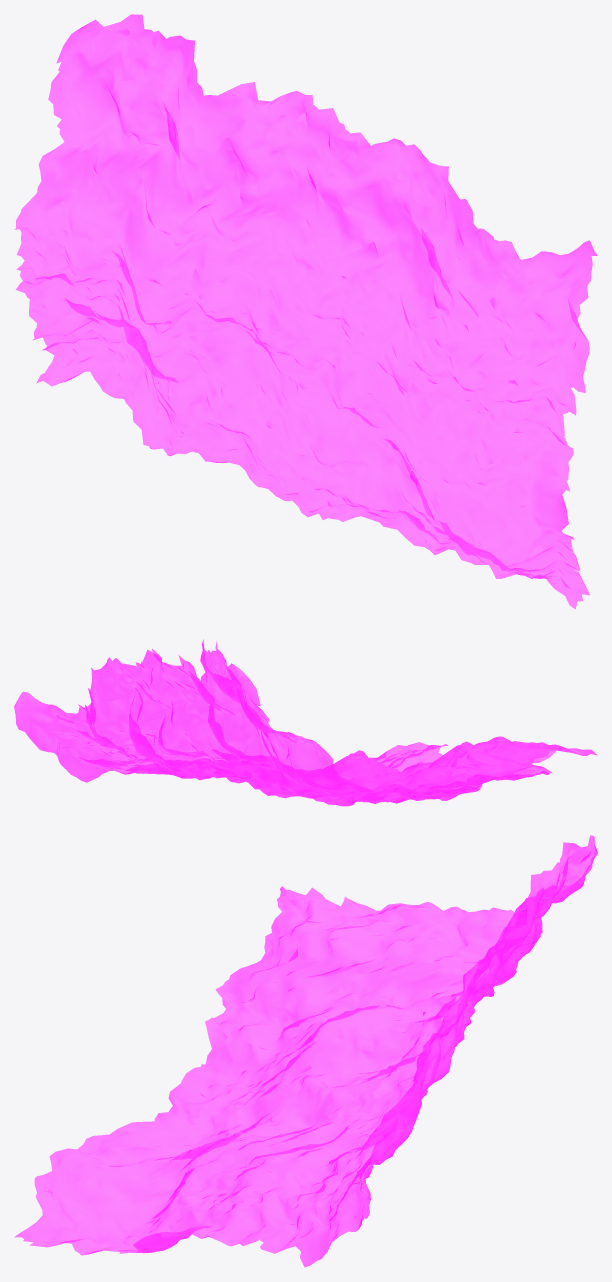
The model's file is LARFABAR.gltf.
3 views of the same model, one above another, from view 1: azimuth 30°, elevation 25°; view 2: azimuth 150°, elevation 25°; view 3: azimuth 270°, elevation 25° (orthographic). The views are drawn at different scales.
Parts seen in each view (by area): view 1: Plane003; view 2: Plane003; view 3: Plane003.
Part boxes in pixels (bbox=[...]): Plane003: bbox=[14, 14, 597, 609]; Plane003: bbox=[14, 639, 597, 806]; Plane003: bbox=[14, 835, 597, 1267].
Bounding box in the file's own units: 1.76 × 1.08 × 1.66.
